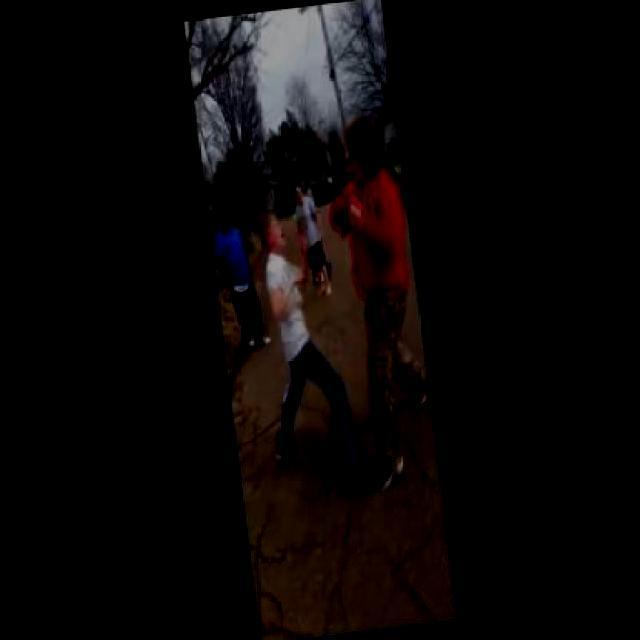fight: (228, 119, 416, 488)
